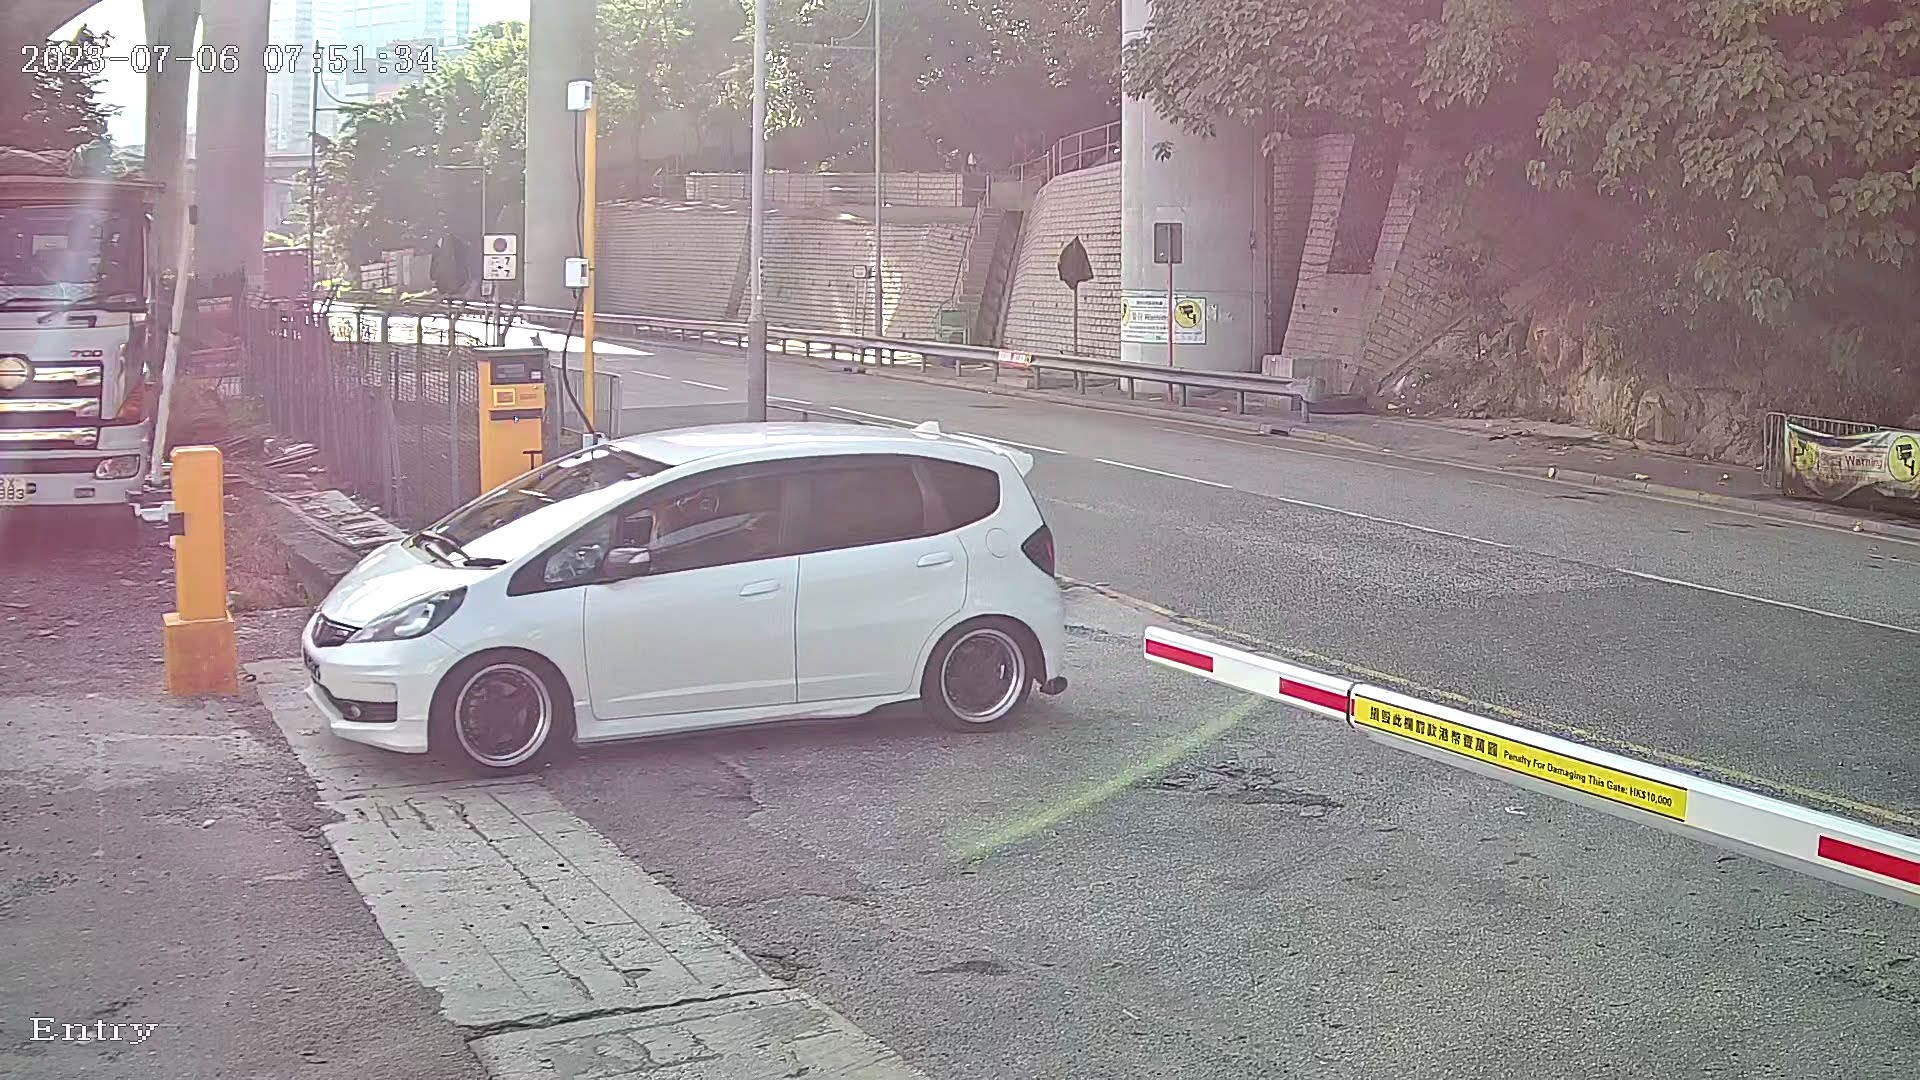privatecar: (282, 361, 1109, 823)
